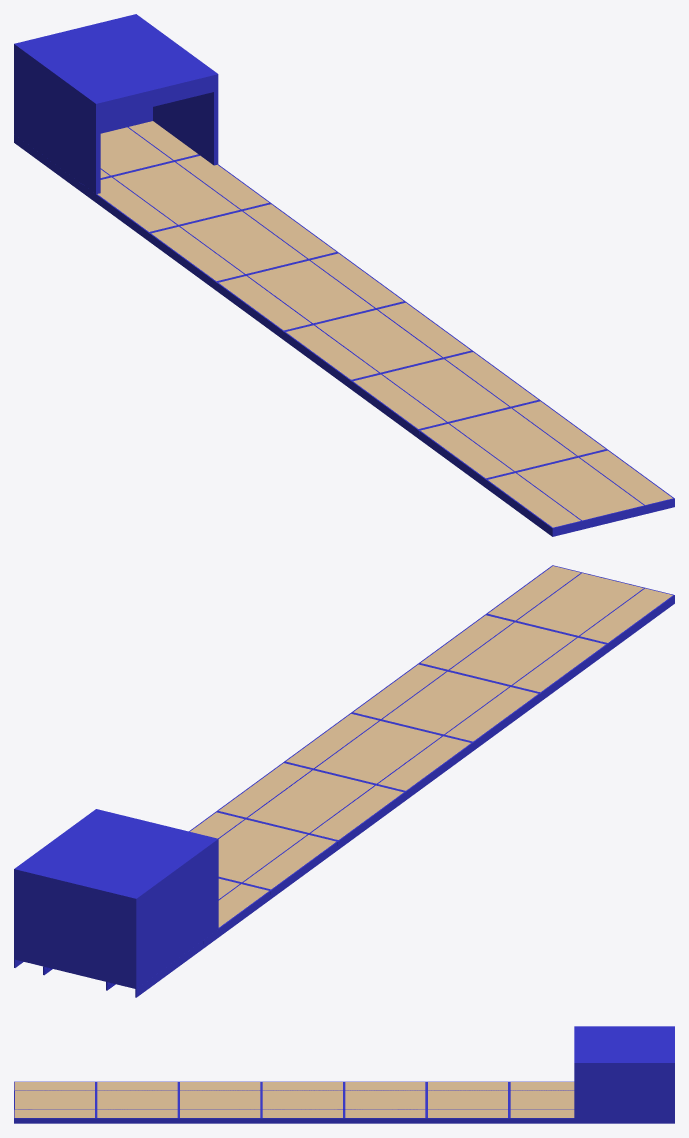
Rendered from bowling-alley.dae.
The picture shows the model from 3 angles, top to bottom: view 1: azimuth 30°, elevation 25°; view 2: azimuth 150°, elevation 25°; view 3: azimuth 270°, elevation 25°; orthographic projection. The views are drawn at different scales.
Visible parts, largest first — view 1: group_15, group_11 (×3), group_10 (×3), group_12 (×3), group_8 (×3), group_7 (×3), group_13 (×3), group_9 (×3), group_3, group_6 (×2), group_1, group_2 (+2 smaller); view 2: group_15, group_8 (×3), group_7 (×3), group_10 (×3), group_12 (×3), group_13 (×3), group_11 (×3), group_3, group_9, group_4, group_2, group_5; view 3: group_15, group_5, group_12 (×3), group_7 (×3), group_8 (×3), group_10 (×3), group_13 (×3), group_11 (×3), group_9 (×3), group_2, group_3, group_4.
Boxes of the visible parts, left/top/right/bottom form: group_15: left=14, top=14, right=218, bottom=194; group_11 (×3): left=151, top=204, right=335, bottom=281; group_10 (×3): left=286, top=302, right=470, bottom=379; group_12 (×3): left=420, top=401, right=605, bottom=478; group_8 (×3): left=353, top=352, right=537, bottom=428; group_7 (×3): left=219, top=253, right=403, bottom=330; group_13 (×3): left=488, top=450, right=672, bottom=527; group_9 (×3): left=97, top=155, right=268, bottom=231; group_3: left=14, top=134, right=553, bottom=536; group_6 (×2): left=100, top=121, right=197, bottom=175; group_1: left=553, top=498, right=673, bottom=536; group_2: left=127, top=127, right=644, bottom=505; group_15: left=14, top=809, right=218, bottom=989; group_8 (×3): left=353, top=664, right=537, bottom=741; group_7 (×3): left=218, top=763, right=403, bottom=839; group_10 (×3): left=286, top=714, right=470, bottom=790; group_12 (×3): left=421, top=615, right=605, bottom=692; group_13 (×3): left=488, top=566, right=672, bottom=642; group_11 (×3): left=190, top=812, right=335, bottom=889; group_3: left=135, top=595, right=674, bottom=997; group_9: left=218, top=884, right=268, bottom=927; group_4: left=106, top=588, right=644, bottom=990; group_2: left=43, top=573, right=581, bottom=975; group_5: left=14, top=565, right=553, bottom=967; group_15: left=574, top=1026, right=674, bottom=1118; group_5: left=14, top=1118, right=674, bottom=1123; group_12 (×3): left=97, top=1082, right=177, bottom=1117; group_7 (×3): left=345, top=1082, right=425, bottom=1117; group_8 (×3): left=180, top=1082, right=260, bottom=1117; group_10 (×3): left=262, top=1082, right=342, bottom=1117; group_13 (×3): left=14, top=1082, right=94, bottom=1117; group_11 (×3): left=428, top=1082, right=507, bottom=1117; group_9 (×3): left=510, top=1082, right=574, bottom=1117; group_2: left=15, top=1109, right=573, bottom=1109; group_3: left=14, top=1081, right=573, bottom=1081; group_4: left=15, top=1090, right=573, bottom=1090.
Bounding box in the file's own units: 41.38 × 315 × 31.92.
